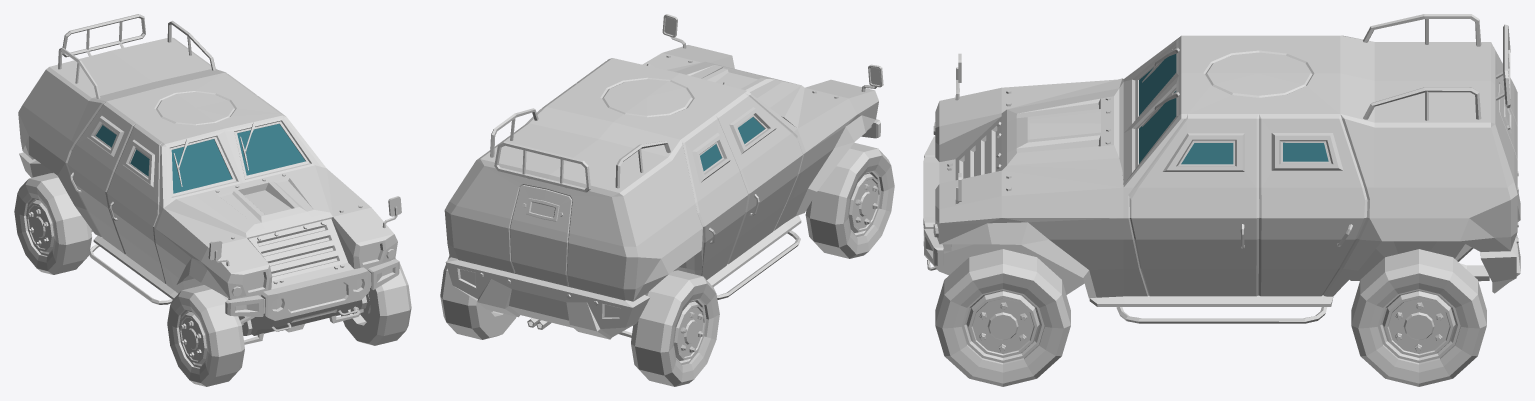
The picture shows the model from 3 angles, left to right: view 1: azimuth 30°, elevation 25°; view 2: azimuth 150°, elevation 25°; view 3: azimuth 270°, elevation 25°; orthographic projection. The views are drawn at different scales.
Parts seen in each view (by area): view 1: SM_Veh_Armored_Car_01, SM_Veh_Armored_Car_Wheel_fr, SM_Veh_Armored_Car_Wheel_rr, SM_Veh_Armored_Car_Glass_01, SM_Veh_Armored_Car_Wheel_fl; view 2: SM_Veh_Armored_Car_01, SM_Veh_Armored_Car_Wheel_rr, SM_Veh_Armored_Car_Wheel_fr, SM_Veh_Armored_Car_Wheel_rl, SM_Veh_Armored_Car_Glass_01; view 3: SM_Veh_Armored_Car_01, SM_Veh_Armored_Car_Wheel_fl, SM_Veh_Armored_Car_Wheel_rl, SM_Veh_Armored_Car_Glass_01.
Part boxes in pixels (x1,y1,x2,y2): SM_Veh_Armored_Car_01: (18, 14, 401, 344); SM_Veh_Armored_Car_Wheel_fr: (167, 285, 244, 386); SM_Veh_Armored_Car_Wheel_rr: (14, 173, 91, 274); SM_Veh_Armored_Car_Glass_01: (96, 124, 305, 193); SM_Veh_Armored_Car_Wheel_fl: (341, 258, 411, 345); SM_Veh_Armored_Car_01: (444, 14, 883, 339); SM_Veh_Armored_Car_Wheel_rr: (631, 270, 719, 386); SM_Veh_Armored_Car_Wheel_fr: (805, 142, 894, 258); SM_Veh_Armored_Car_Wheel_rl: (440, 256, 516, 339); SM_Veh_Armored_Car_Glass_01: (700, 117, 764, 170); SM_Veh_Armored_Car_01: (923, 14, 1520, 323); SM_Veh_Armored_Car_Wheel_fl: (935, 249, 1070, 386); SM_Veh_Armored_Car_Wheel_rl: (1351, 249, 1486, 386); SM_Veh_Armored_Car_Glass_01: (1139, 54, 1328, 164).
Size of the model in its own units: 2.51 by 2.43 by 4.76.
